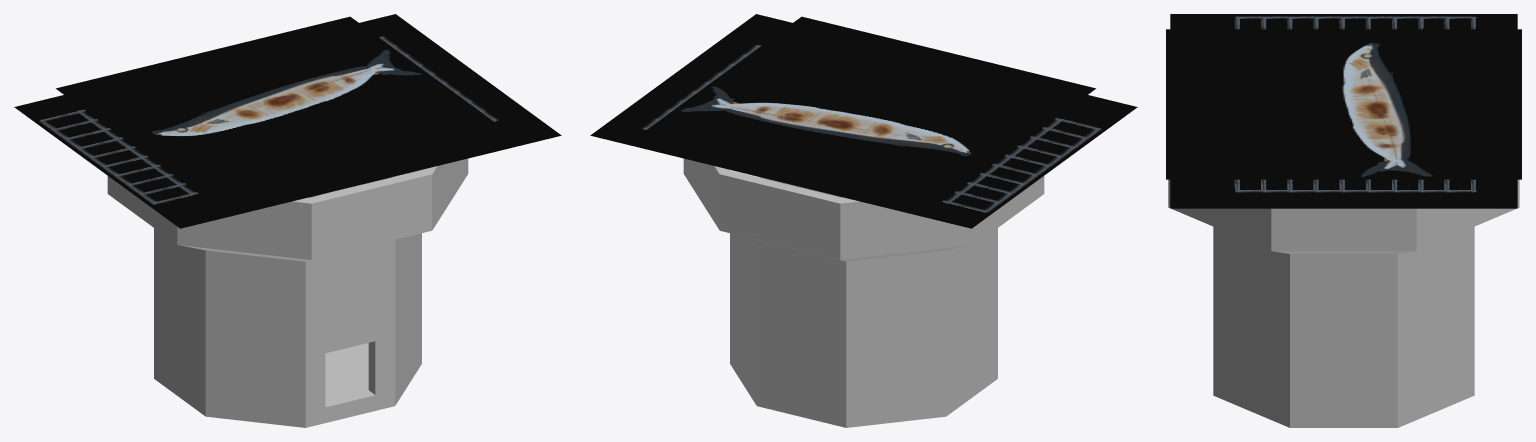
The picture shows the model from 3 angles, left to right: view 1: azimuth 30°, elevation 25°; view 2: azimuth 150°, elevation 25°; view 3: azimuth 270°, elevation 25°; orthographic projection. The views are drawn at different scales.
Parts seen in each view (by area): view 1: 円, 平面.005, 平面.004; view 2: 円, 平面.005, 平面.004; view 3: 円, 平面.005, 平面.004.
Part boxes in pixels (x1,y1,x2,y2): 円: (107, 158, 468, 427); 平面.005: (56, 16, 519, 212); 平面.004: (14, 14, 561, 228); 円: (683, 158, 1044, 427); 平面.005: (632, 16, 1095, 212); 平面.004: (590, 14, 1137, 228); 円: (1168, 179, 1519, 427); 平面.005: (1166, 29, 1521, 179); 平面.004: (1170, 14, 1517, 208).
Bounding box in the file's own units: 326 × 210 × 252.
